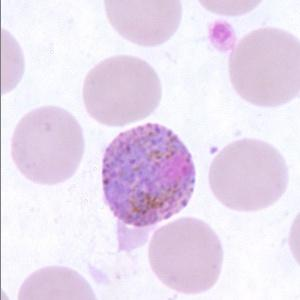Infected: (102, 123, 195, 227)
Uninfected: (207, 139, 289, 213), (11, 104, 85, 185), (148, 217, 222, 294), (81, 55, 162, 125), (230, 29, 300, 107)
